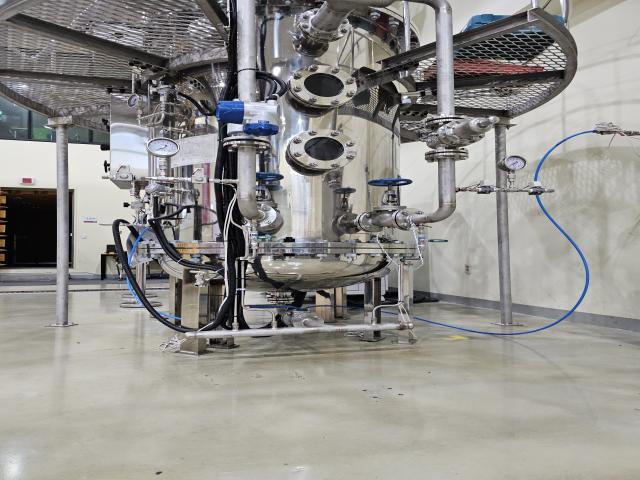Flange: (283, 127, 361, 174), (284, 64, 362, 109)
Flush Ring: (295, 6, 357, 42), (237, 204, 281, 229), (217, 134, 274, 151), (391, 206, 428, 232), (420, 114, 476, 129), (422, 148, 474, 164), (290, 311, 332, 329), (355, 209, 383, 232)
GasRegulator: (122, 82, 204, 137)
Nuts: (110, 171, 142, 184), (470, 184, 501, 197), (186, 174, 216, 186), (523, 185, 550, 198)
Piston Valve: (364, 172, 416, 211), (258, 171, 288, 204)
Pressure Gage: (146, 136, 187, 180), (495, 152, 530, 192)
